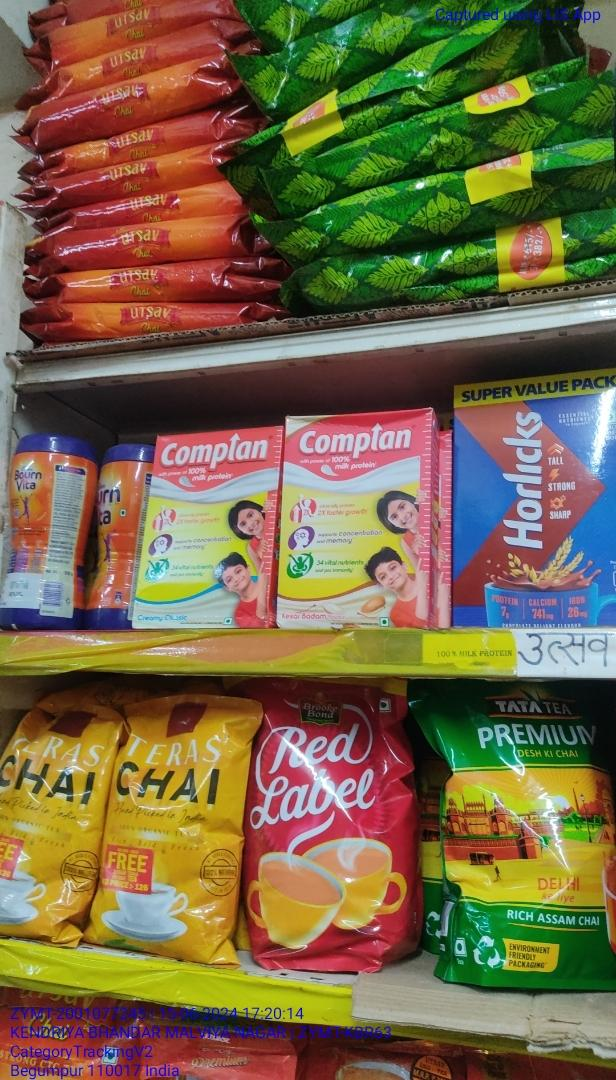COMPLAN_CHOCOLATE_1_KG_PACK: (448, 382, 616, 629)
COMPLAN_CREAMY_CLASSIC_500_G_PACK: (134, 426, 277, 628)
